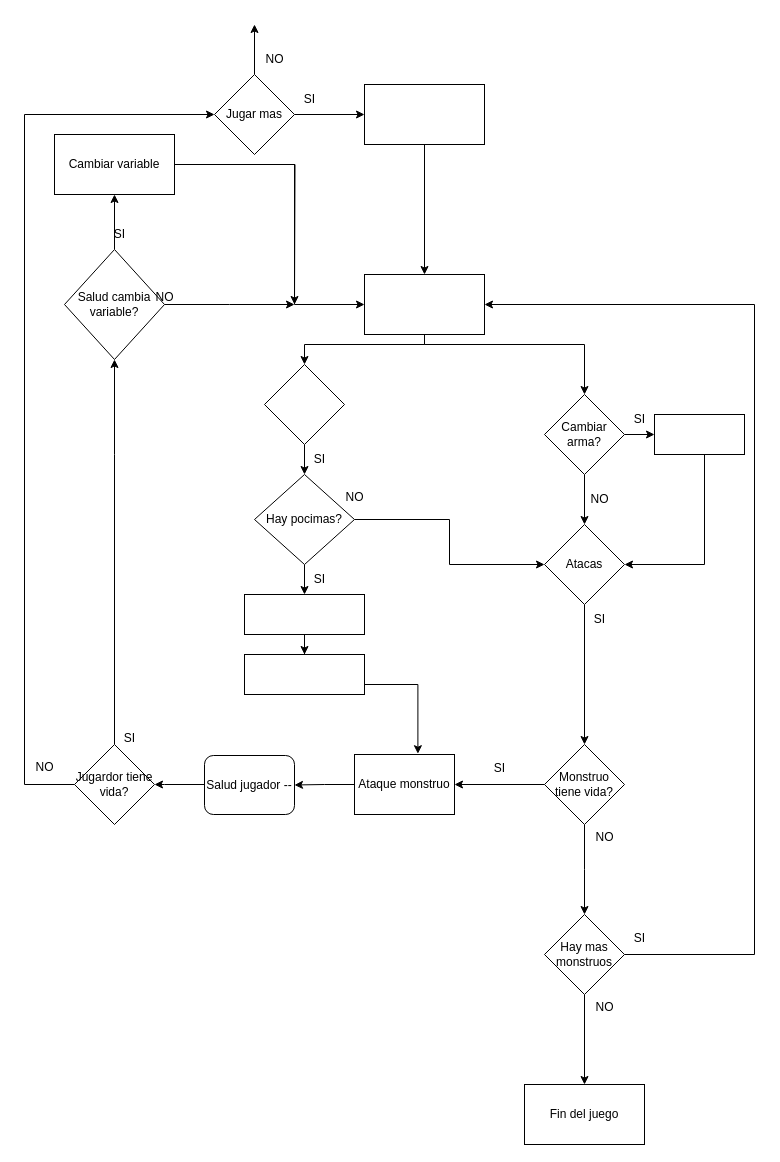
The diagram is 780 pixels wide and 1162 high, and some of its shapes have lost their labels. The centre of each missing label's shape, as x and y in pixels:
"Curas" belongs at pixel 304 404.
"GAMESTART" belongs at pixel 424 114.
"Inicio de round" belongs at pixel 424 304.
"Modificar variable" belongs at pixel 699 434.
"Pocimas -1" belongs at pixel 304 614.
"Salud ++" belongs at pixel 304 674.
